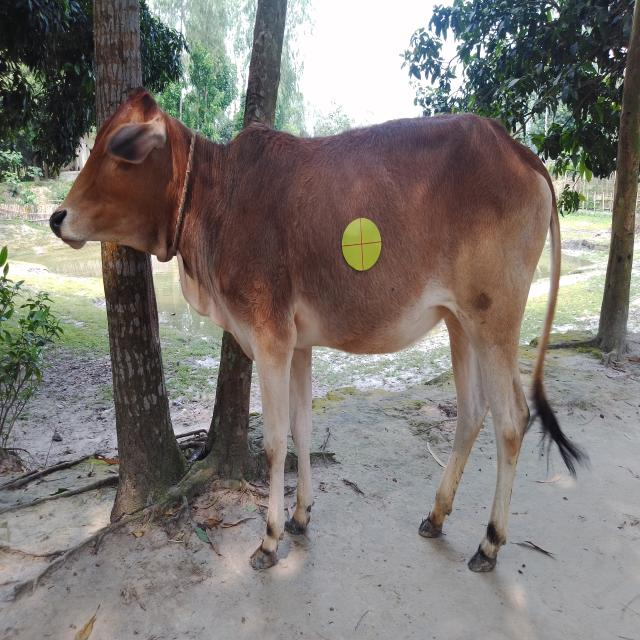badan_sapi: (239, 128, 547, 358)
sapi: (47, 75, 596, 590)
